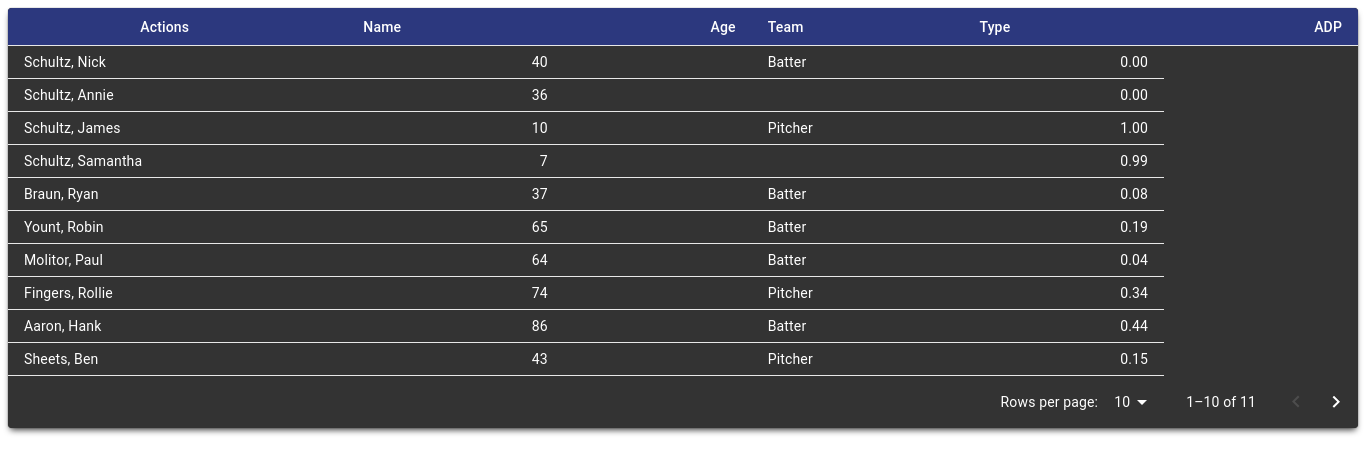
Test: ParentTable › should render › and handle moving to the next page and back
Click the button named "Go to next page" at (1336, 402), box [1316, 382, 1356, 422]
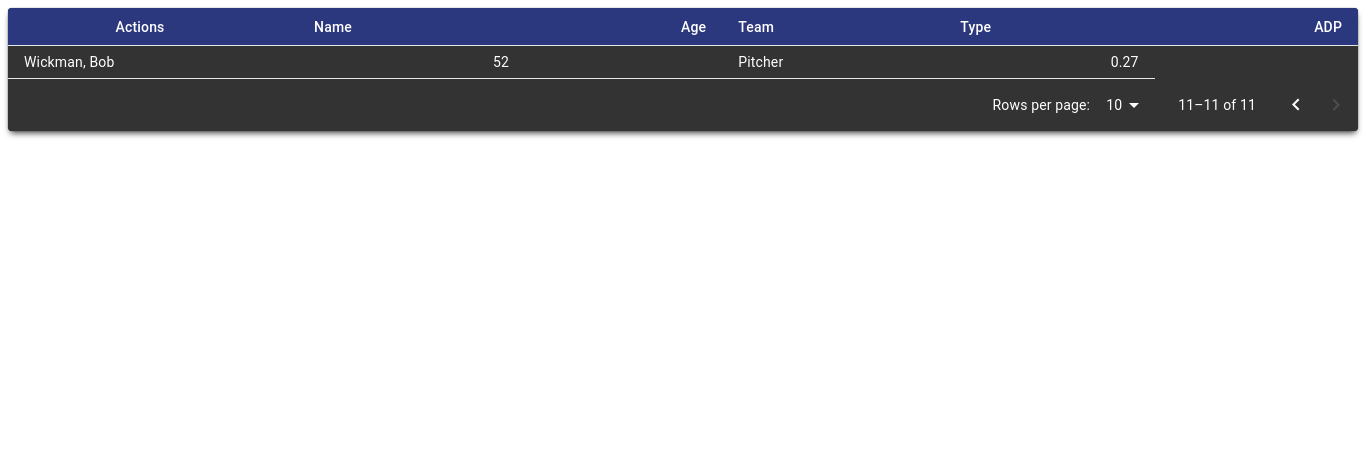
Now the number of rows is 2, box [8, 8, 1358, 46]; [8, 46, 1358, 79]
Click the button named "Go to previous page" at (1296, 105), box [1276, 85, 1316, 125]
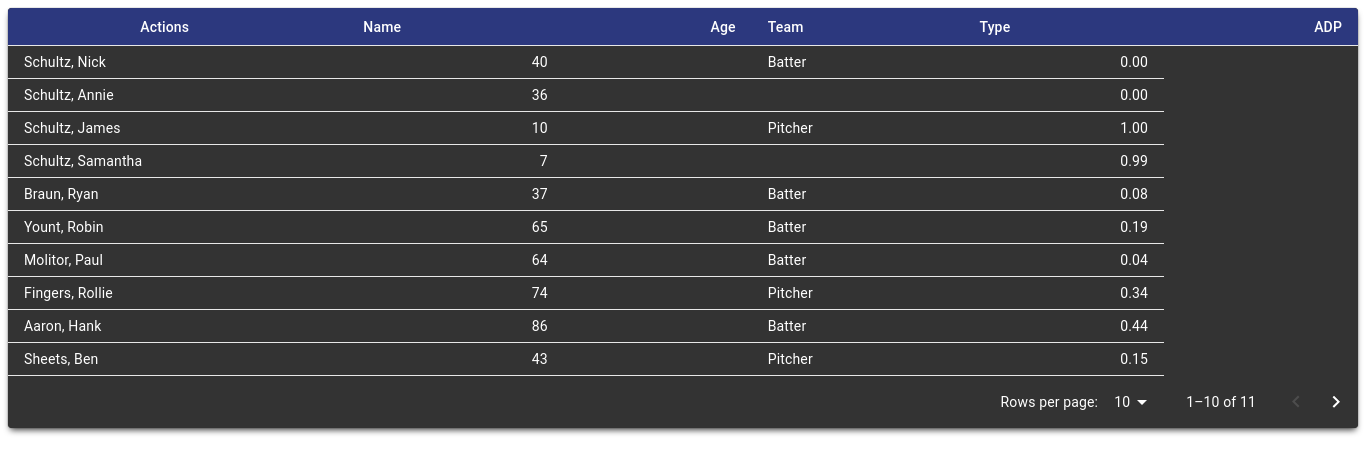
Now the number of rows is 11
